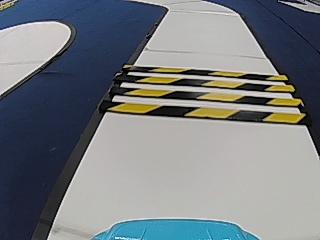bump: (101, 60, 302, 132)
